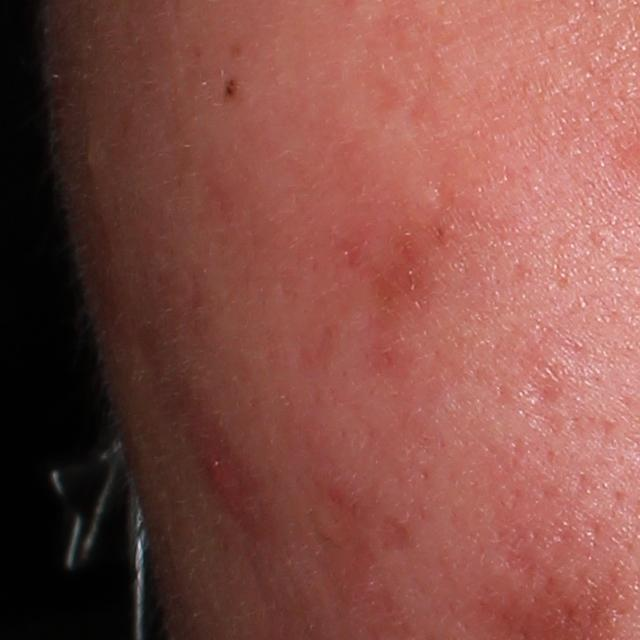nevus: (222, 75, 238, 103)
